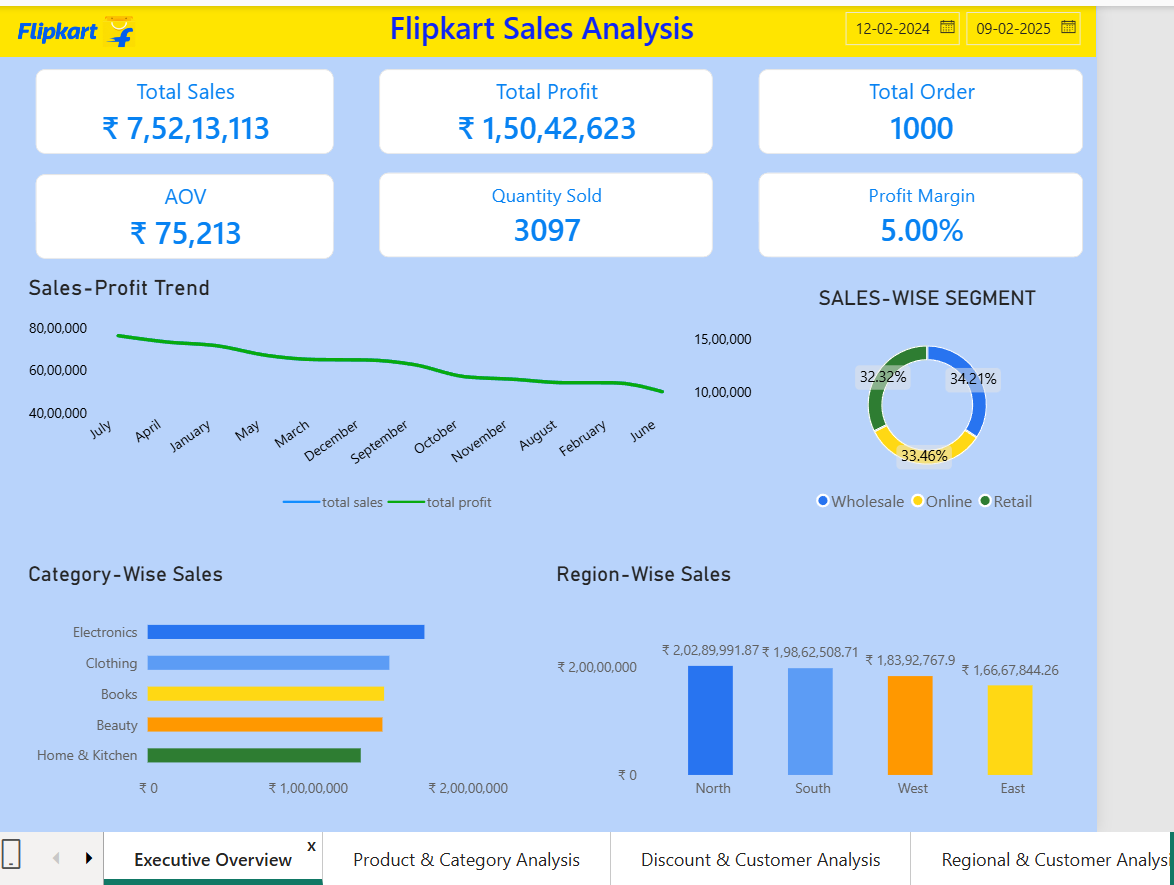

This screenshot's page, from the dashboard's own definition file:
{"tool":"powerbi","page":{"name":"Executive Overview","canvas":[960,720],"ordinal":0},"visuals":[{"type":"cardVisual","fields":{"Data":["public flipkart.total sales"]},"box":[35.3,54.9,260.2,74.5],"z":0},{"type":"shape","box":[0,0,959.7,44.5],"z":1000},{"type":"textbox","box":[343.9,0,291.6,44.5],"z":2000},{"type":"image","box":[0,0,143.8,44.5],"z":3000},{"type":"cardVisual","fields":{"Data":["public flipkart.total profit"]},"box":[334.7,54.9,291.6,74.5],"z":4000},{"type":"cardVisual","fields":{"Data":["public flipkart.AOV"]},"box":[35.3,146.4,260.2,74.5],"z":5000},{"type":"cardVisual","fields":{"Data":["public flipkart.profit margin"]},"box":[665.5,145.1,283.7,74.5],"z":6000},{"type":"cardVisual","fields":{"Data":["public flipkart.total order"]},"box":[665.5,54.9,283.7,74.5],"z":7000},{"type":"cardVisual","fields":{"Data":["public flipkart.quantity sold"]},"box":[334.7,145.1,291.6,74.5],"z":8000},{"type":"lineChart","title":"Sales-Profit Trend","fields":{"Category":["public flipkart.order_date.Variation.Date Hierarchy.Month"],"Y":["public flipkart.total sales"],"Y2":["public flipkart.total profit"]},"box":[0,220,675.7,241.4],"z":9000},{"type":"barChart","title":"Category-Wise Sales","fields":{"Category":["public flipkart.category"],"Y":["public flipkart.total sales"]},"box":[0,470,462.9,241.4],"z":10000},{"type":"clusteredColumnChart","title":"Region-Wise Sales","fields":{"Category":["public flipkart.region"],"Y":["public flipkart.total sales"]},"box":[472.9,470,487.1,250],"z":11000},{"type":"donutChart","title":"SALES-WISE SEGMENT","fields":{"Category":["public flipkart.customer_segment"],"Y":["public flipkart.total sales"]},"box":[665.5,230.1,294.2,231.4],"z":12000},{"type":"slicer","fields":{"Values":["public flipkart.order_date"]},"box":[733.5,0,226.2,44.5],"z":13000}]}

Visuals, with their boxes on the page's 960x720 design canvas (x1, y1, x2, y2). These are canvas units, not pixel positions in the 1174x885 screenshot, which may show the page scaled, cropped or inside an application window:
cardVisual - public flipkart.total sales: (35, 55, 296, 129)
shape: (0, 0, 960, 44)
textbox: (344, 0, 636, 44)
image: (0, 0, 144, 44)
cardVisual - public flipkart.total profit: (335, 55, 626, 129)
cardVisual - public flipkart.AOV: (35, 146, 296, 221)
cardVisual - public flipkart.profit margin: (666, 145, 949, 220)
cardVisual - public flipkart.total order: (666, 55, 949, 129)
cardVisual - public flipkart.quantity sold: (335, 145, 626, 220)
"Sales-Profit Trend" lineChart: (0, 220, 676, 461)
"Category-Wise Sales" barChart: (0, 470, 463, 711)
"Region-Wise Sales" clusteredColumnChart: (473, 470, 960, 720)
"SALES-WISE SEGMENT" donutChart: (666, 230, 960, 462)
slicer - public flipkart.order_date: (734, 0, 960, 44)
